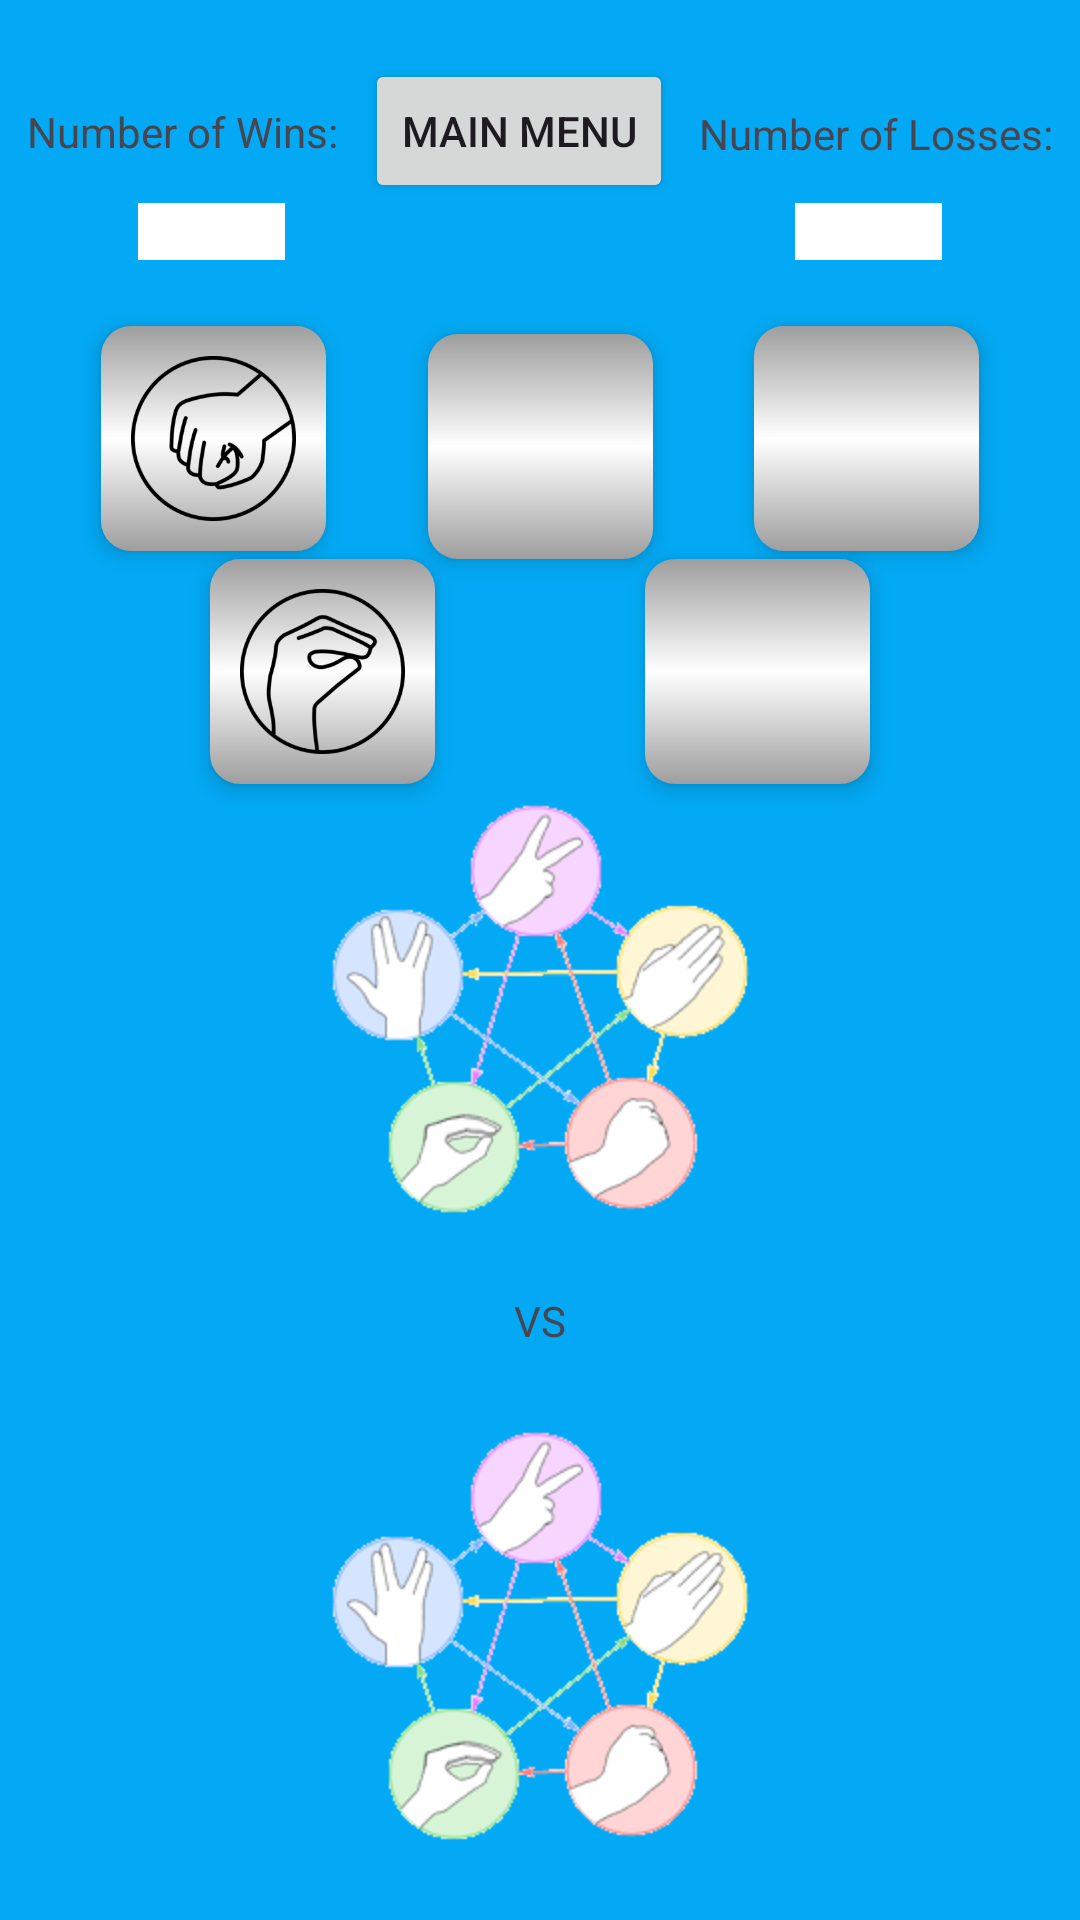

Named icons in this screenshot (1080px×1920px) and their bounding boxes, (x1, y1, x2, y2):
Lizard: (210, 559, 435, 784)
Rock: (101, 326, 326, 551)
